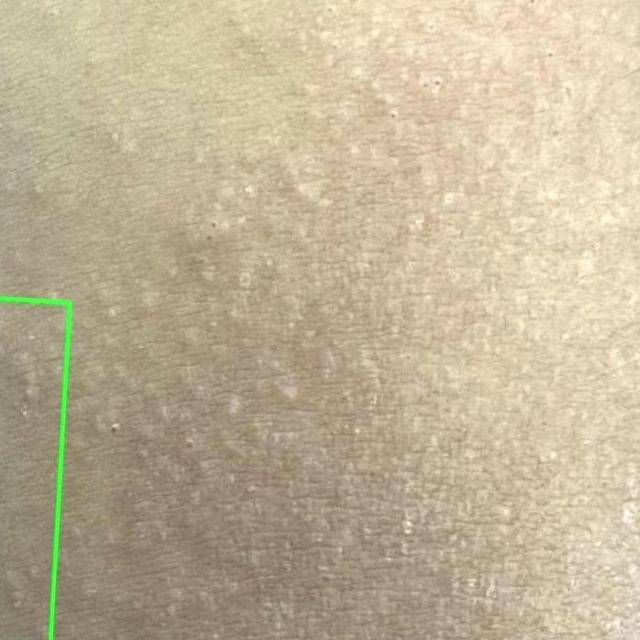Contact Dermatitis: (0, 298, 69, 639)
